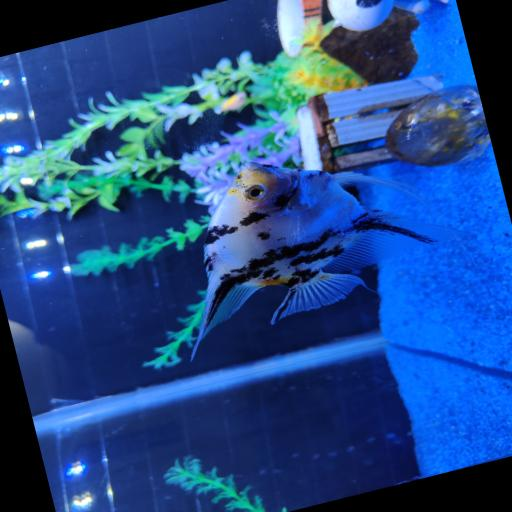Fish: (192, 162, 462, 356), (221, 91, 246, 111)
